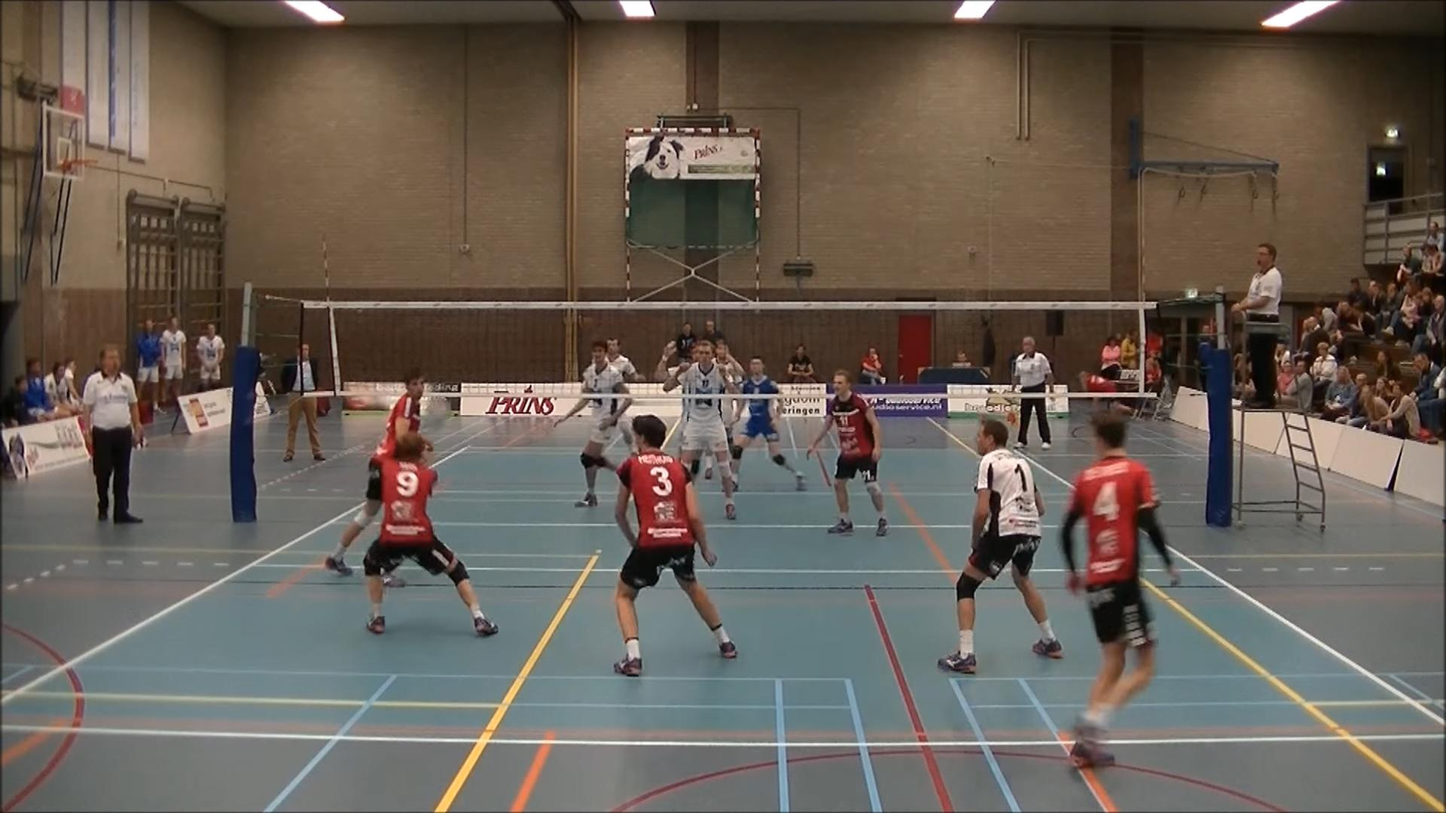Player: (1061, 410, 1179, 766), (614, 415, 736, 676), (938, 419, 1062, 673), (324, 369, 432, 575), (807, 370, 888, 536), (663, 340, 736, 519), (554, 340, 632, 507), (731, 355, 804, 489), (606, 338, 645, 383), (606, 338, 643, 382), (725, 421, 737, 489)
Receive: (349, 427, 519, 644)
